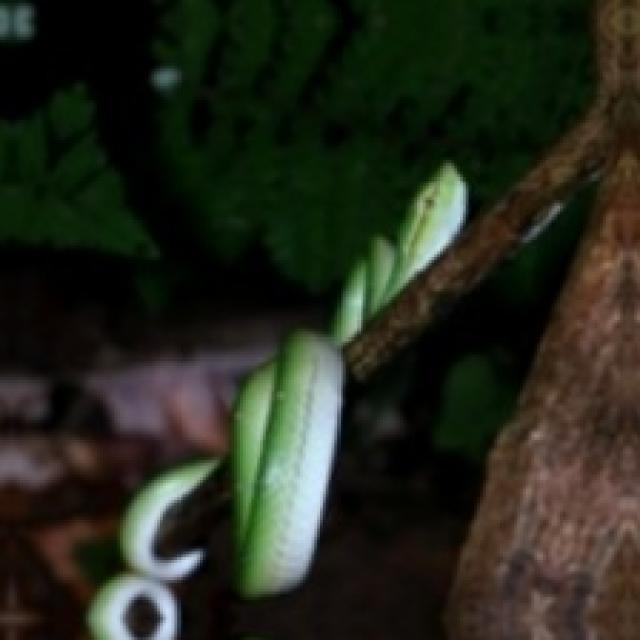north ph temple pitviper: (226, 162, 468, 597), (89, 459, 222, 640)
